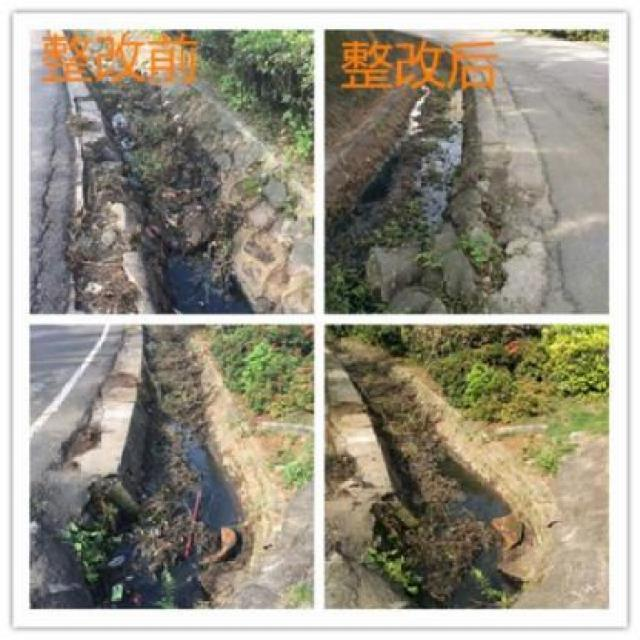garbage: (373, 346, 516, 589), (120, 90, 242, 286), (142, 326, 230, 590), (377, 105, 458, 280)
